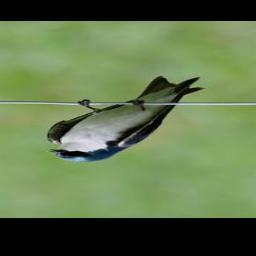Swallow: (46, 76, 207, 163)
